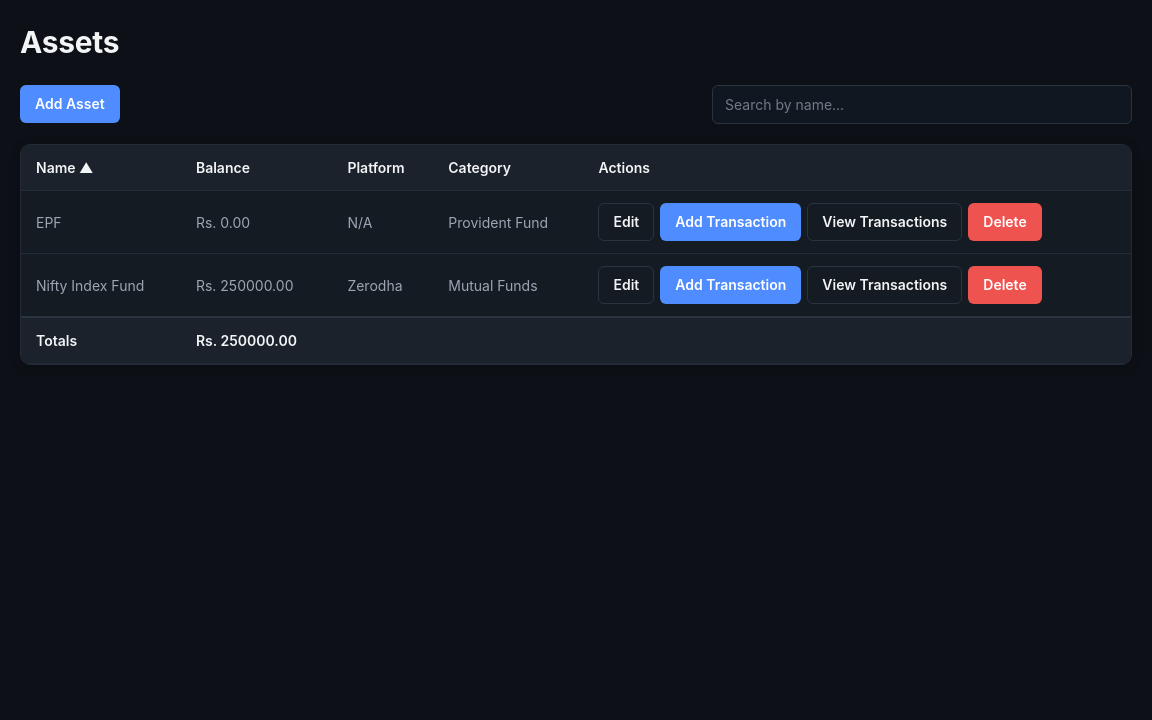
Test: Assets page › creating and editing assets › edits an asset with the form pre-filled
Expected: the heading "Assets" is shown, [20,24,119,60]
Expected: the cell "Nifty Index Fund" is shown, [21,254,181,317]
Click the button "Edit" in the row of "Nifty Index Fund" at point(626, 285), box [598,266,654,304]
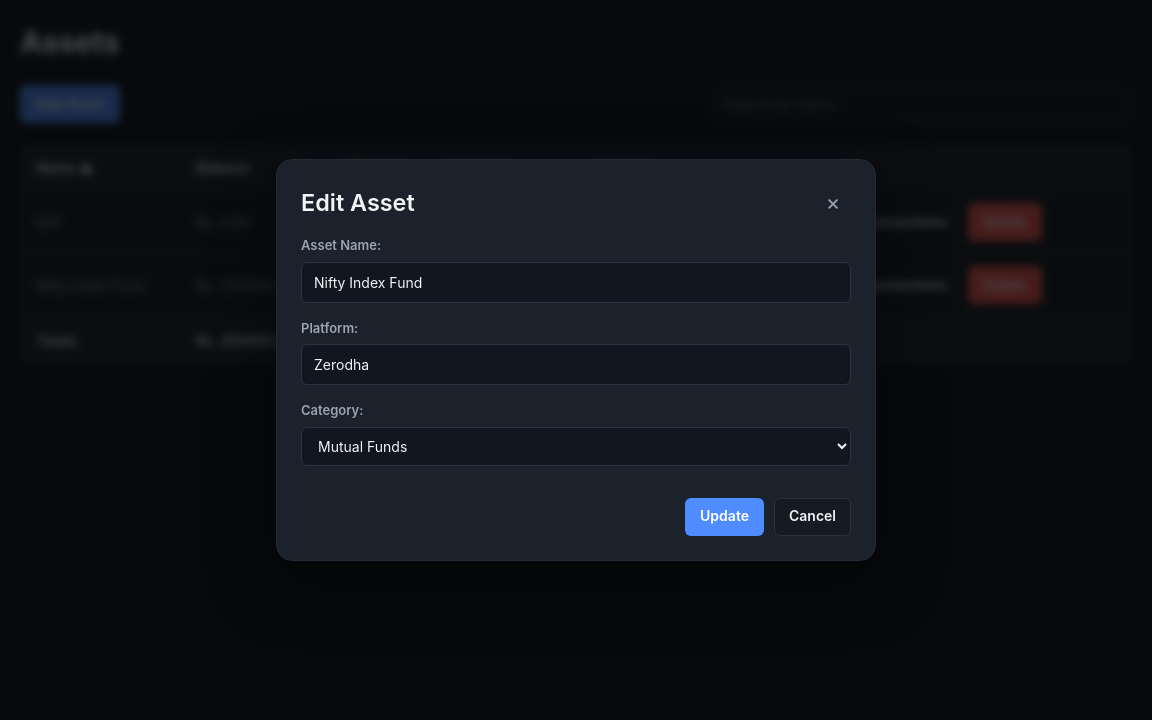
Expected: the field labelled "Asset Name:" holds "Nifty Index Fund", [301,262,851,303]
Expected: the dropdown labelled "Category:" shows "Mutual Funds", [301,427,851,466]
Replace the text in the field labelled "Platform:" with "Groww" at point(576, 365), box [301,344,851,385]
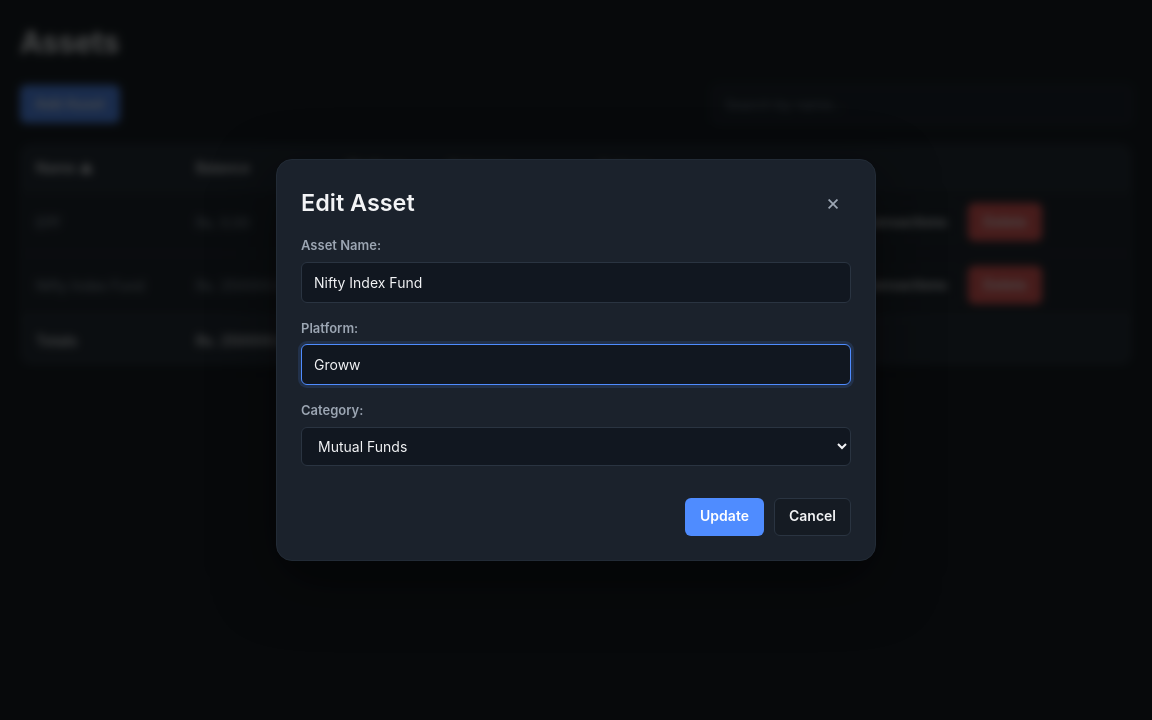
Click the button "Update" at point(725, 517), box [685,498,764,536]
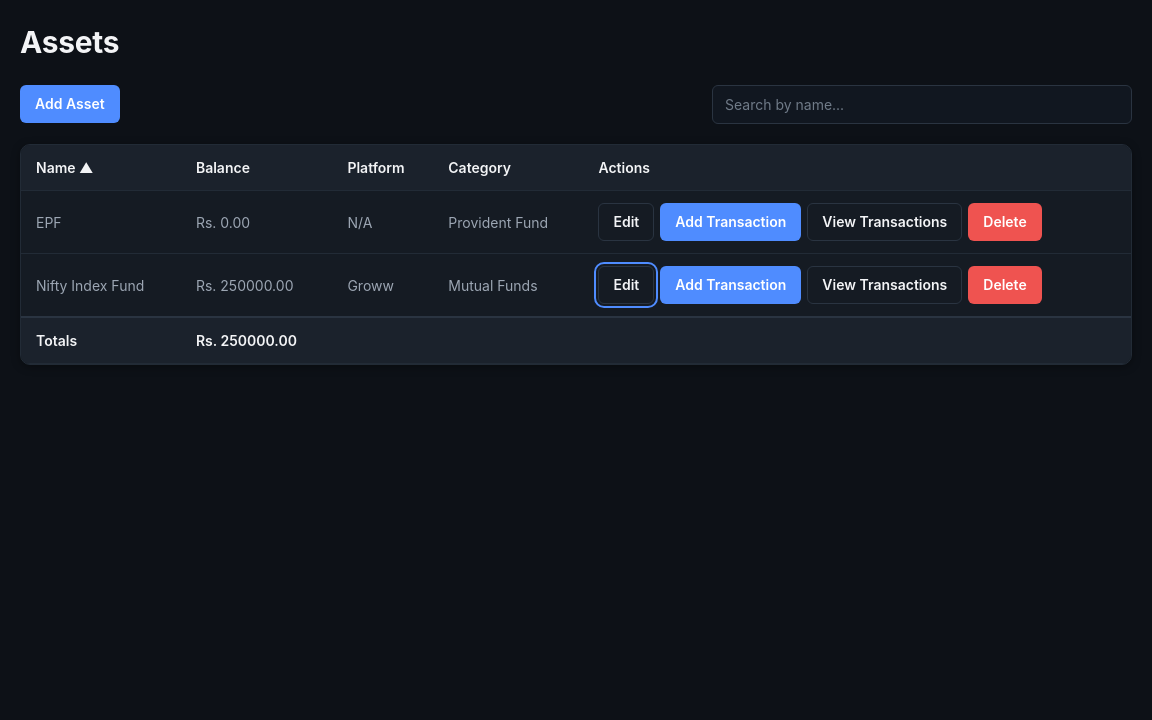
Expected: the cell "Groww" is shown, [332,254,433,317]
